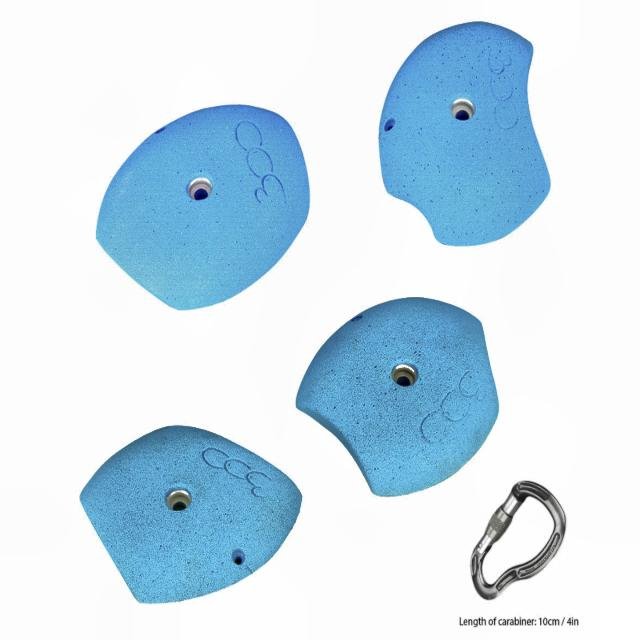Hold: (95, 100, 308, 310), (298, 296, 496, 498), (377, 22, 556, 244), (79, 424, 301, 602)
